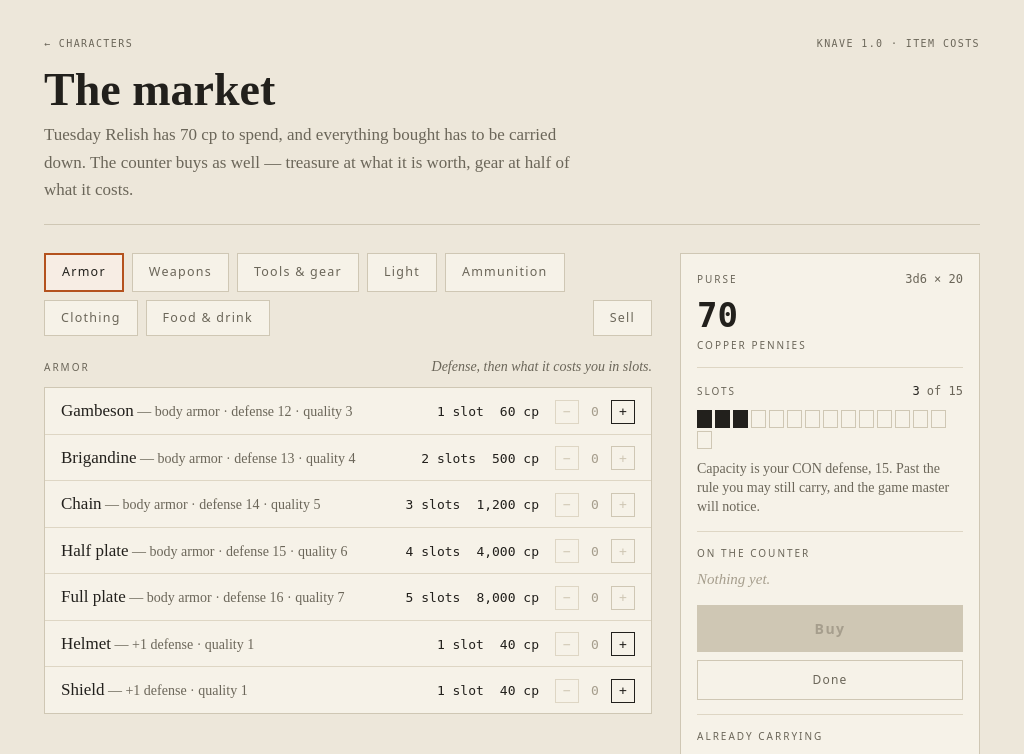
the shop › kills the control that would overspend, rather than refusing at the till
Click the button "+" in the row of "60 cp": {"x": 623, "y": 412} [611,400,635,424]
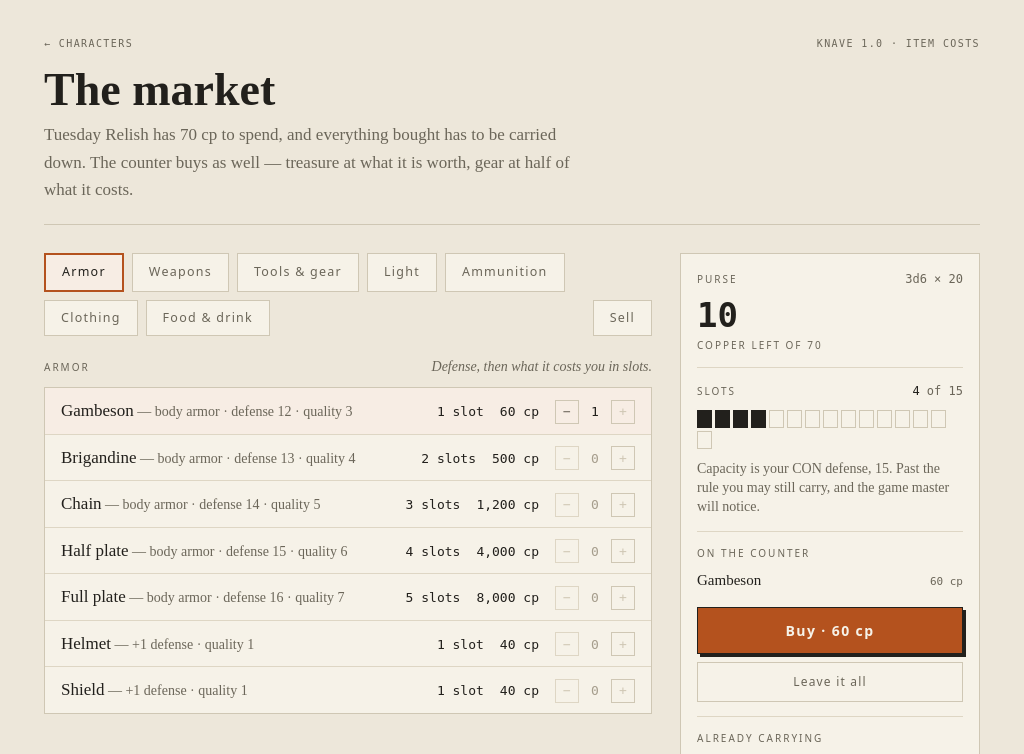
Check: the button "+" in the row of "body armor · defense 12 · quality 3" is disabled, box [611,400,635,424]
